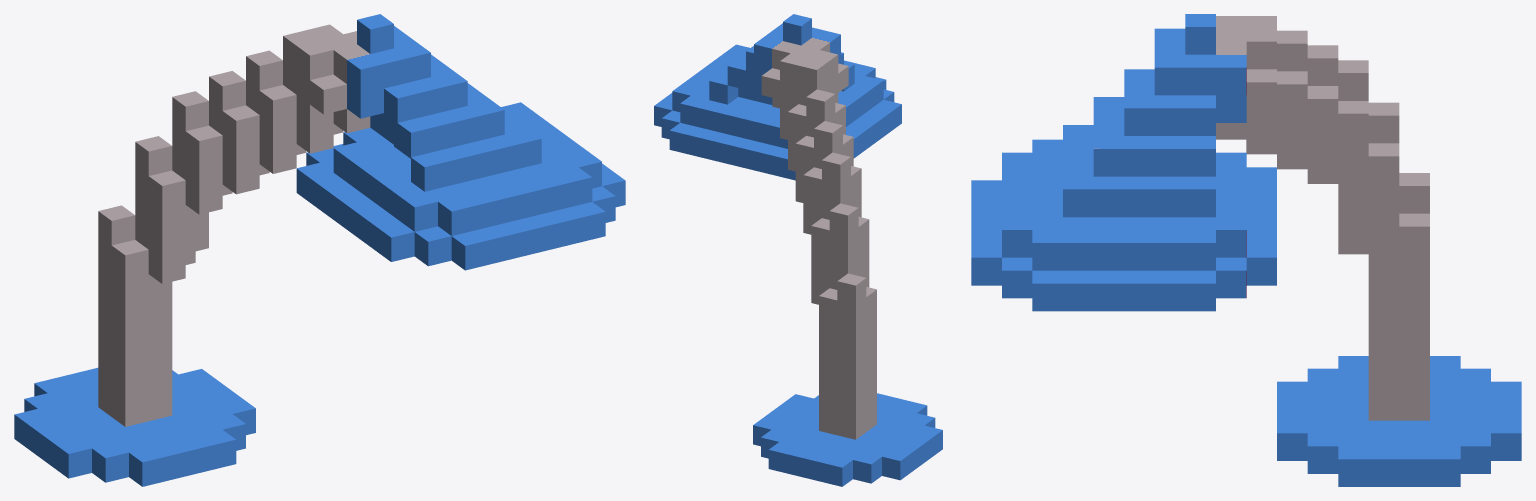
Rendered from lampu belajar_3.obj.
3 renders of one model, left to right at view 1: azimuth 30°, elevation 25°; view 2: azimuth 150°, elevation 25°; view 3: azimuth 270°, elevation 25°, orthographic. The views are drawn at different scales.
Visible parts, largest first — view 1: lampu_belajar_3; view 2: lampu_belajar_3; view 3: lampu_belajar_3.
Boxes of the visible parts, bbox=[...] form: lampu_belajar_3: bbox=[14, 14, 625, 486]; lampu_belajar_3: bbox=[654, 14, 942, 486]; lampu_belajar_3: bbox=[971, 14, 1521, 486].
Bounding box in the file's own units: 1.8 × 1.8 × 1.8.
Materials: 1 (1 with a texture image).
